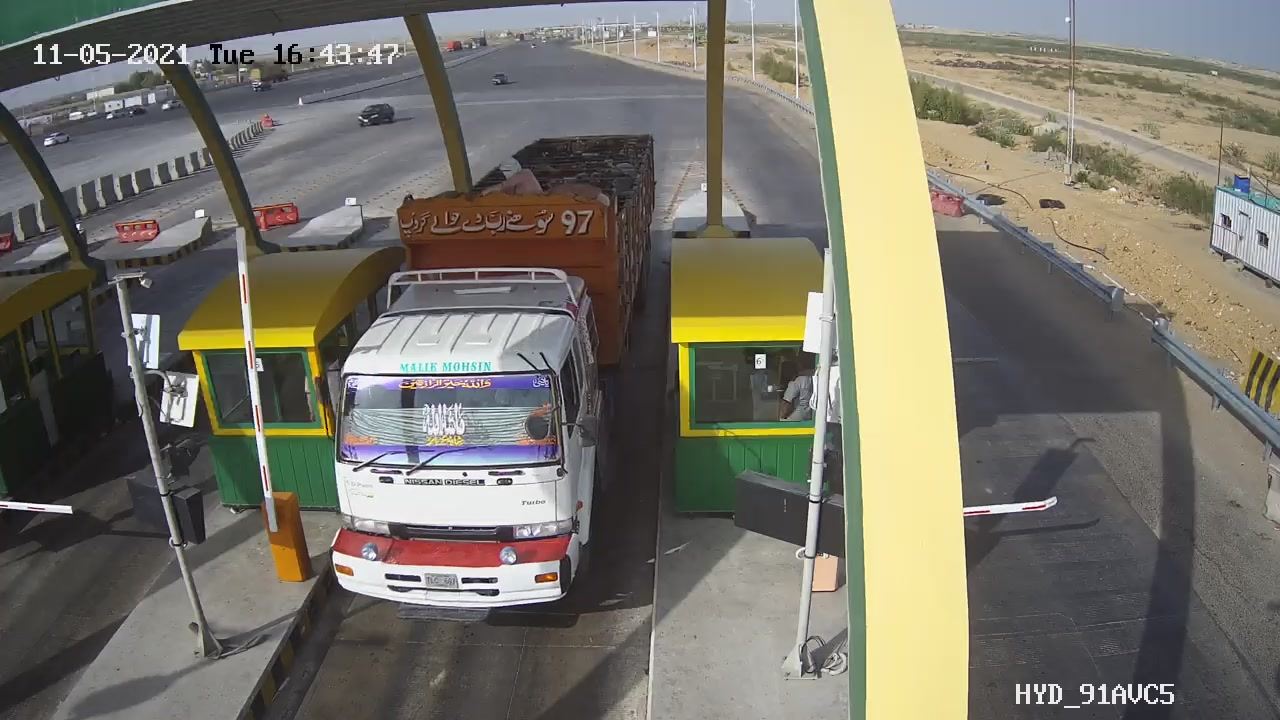F6: (306, 111, 684, 640)
